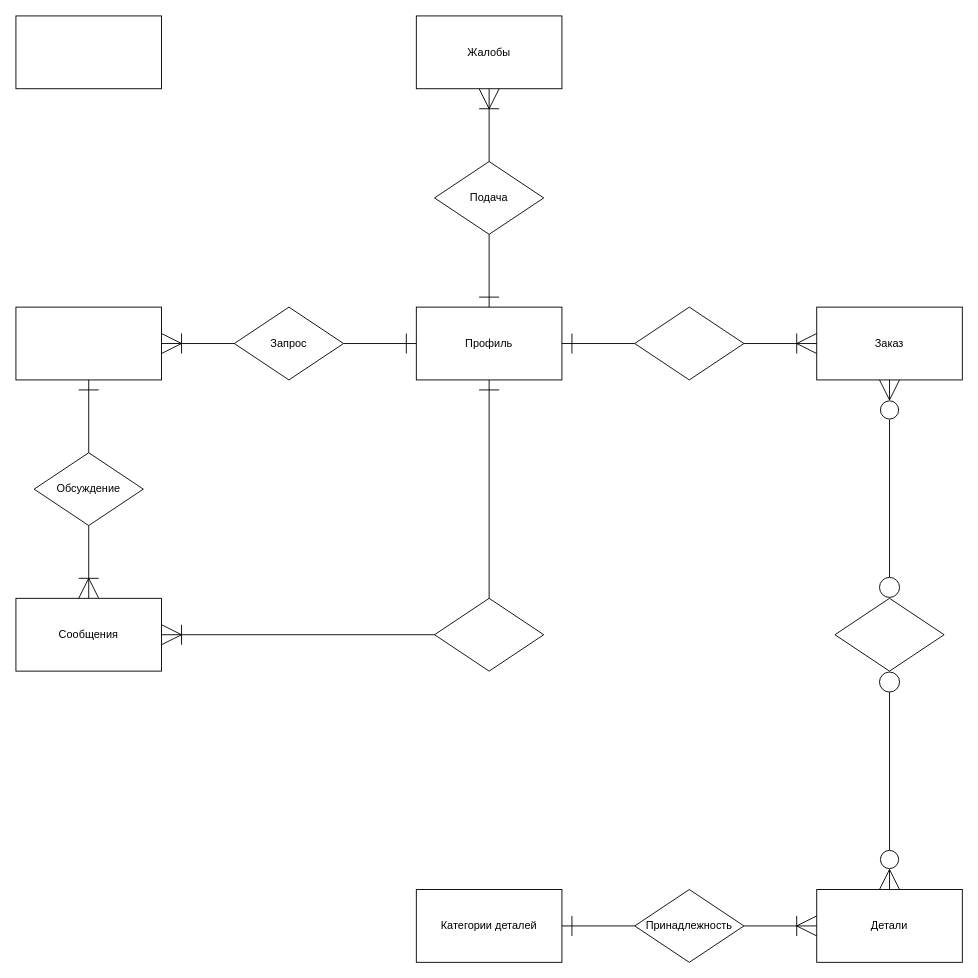
The diagram is 978 pixels wide and 978 high, and some of its shapes have lost their labels. The shapes that lost their labels are listed below. From the top down, each one's centre as x and y in pixels, then its label:
At pixel 88 52: "Отчеты".
At pixel 88 343: "Консультации".
At pixel 689 343: "Оформление".
At pixel 489 634: "Отправка".
At pixel 889 634: "Корзина".
